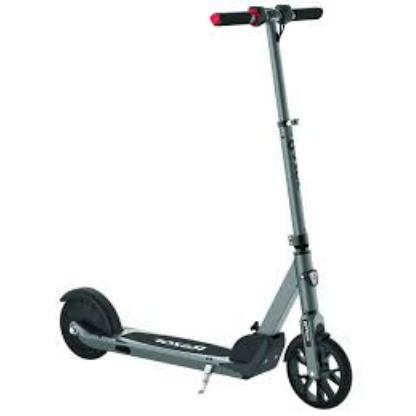bike: (60, 2, 356, 412)
